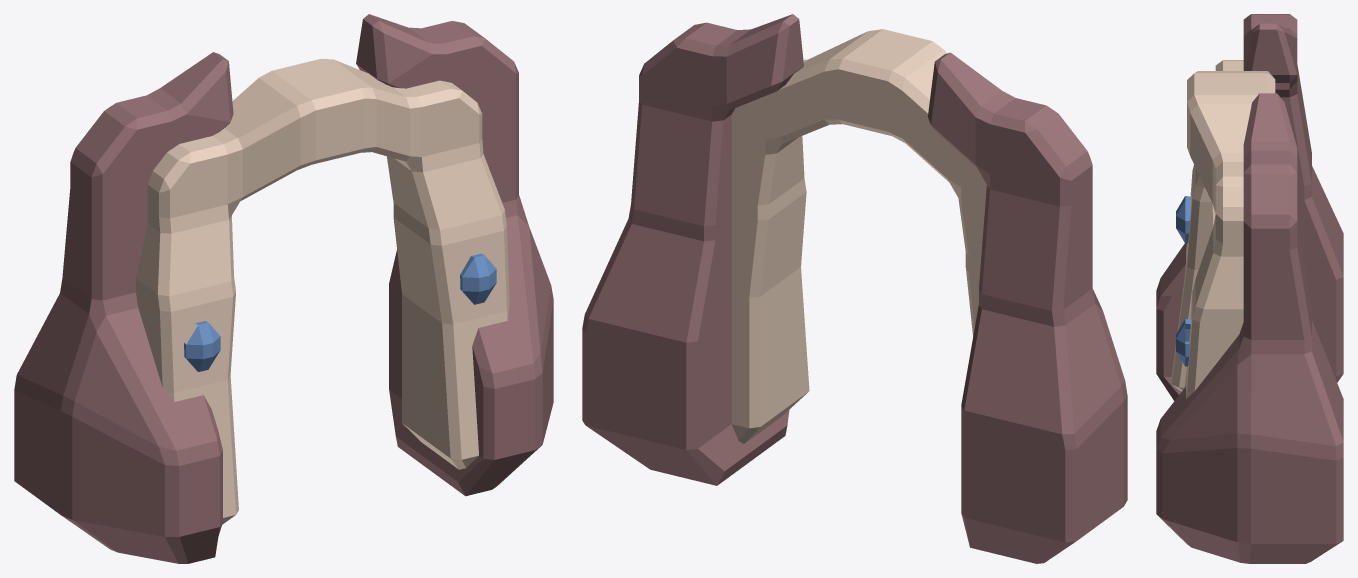
The model's file is 004 Tilinka Portal A1.fbx.
The picture shows the model from 3 angles, left to right: view 1: azimuth 30°, elevation 25°; view 2: azimuth 150°, elevation 25°; view 3: azimuth 270°, elevation 25°; orthographic projection. The views are drawn at different scales.
Visible parts, largest first — view 1: Plane.001, Plane, Plane.003; view 2: Plane.001, Plane; view 3: Plane.001, Plane, Plane.003.
Part boxes in pixels (left/top/right/bottom): Plane.001: left=14, top=14, right=553, bottom=563; Plane: left=136, top=59, right=509, bottom=524; Plane.003: left=184, top=253, right=496, bottom=371; Plane.001: left=582, top=14, right=1127, bottom=563; Plane: left=731, top=29, right=986, bottom=443; Plane.001: left=1156, top=14, right=1343, bottom=563; Plane: left=1171, top=60, right=1275, bottom=398; Plane.003: left=1176, top=196, right=1191, bottom=366.
Bounding box in the file's own units: 1170 × 1047 × 425.
